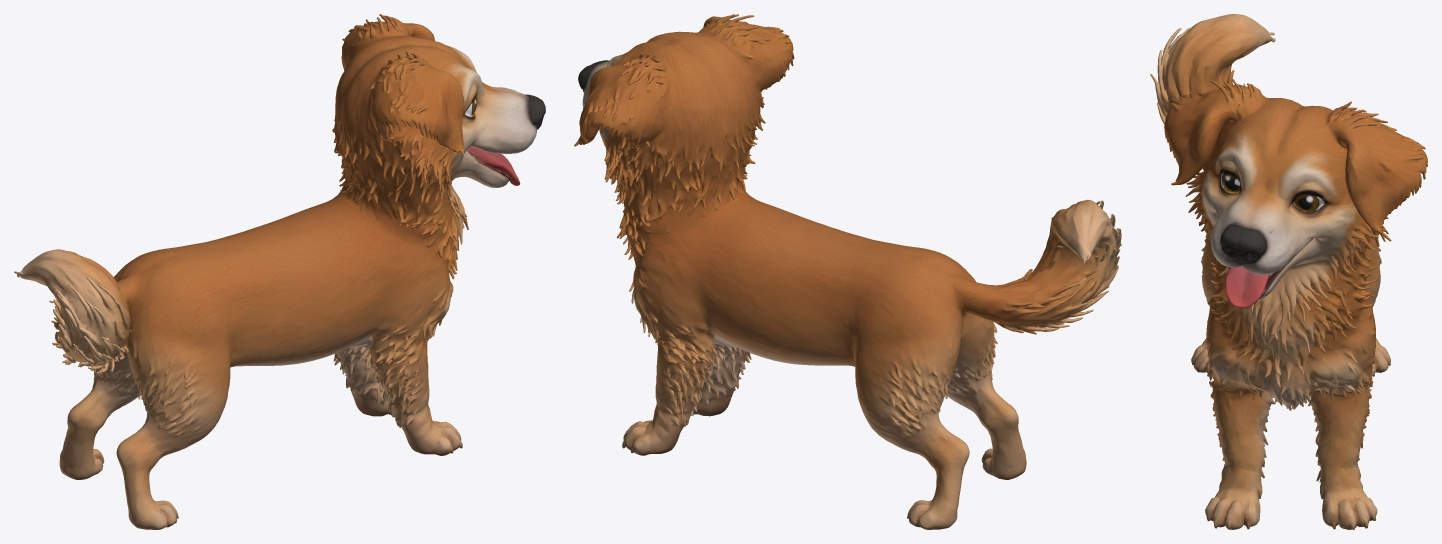
File: Chippy.glb
The picture shows the model from 3 angles, left to right: view 1: azimuth 30°, elevation 25°; view 2: azimuth 150°, elevation 25°; view 3: azimuth 270°, elevation 25°; orthographic projection. The views are drawn at different scales.
Parts seen in each view (by area): view 1: tripo_node_27fff86d-83c6-4f17-a77f-6acfd39d5c8b; view 2: tripo_node_27fff86d-83c6-4f17-a77f-6acfd39d5c8b; view 3: tripo_node_27fff86d-83c6-4f17-a77f-6acfd39d5c8b.
Part boxes in pixels (x1=…): tripo_node_27fff86d-83c6-4f17-a77f-6acfd39d5c8b: x1=14, y1=14, x2=545, y2=529; tripo_node_27fff86d-83c6-4f17-a77f-6acfd39d5c8b: x1=574, y1=14, x2=1121, y2=529; tripo_node_27fff86d-83c6-4f17-a77f-6acfd39d5c8b: x1=1150, y1=14, x2=1427, y2=529.
Size of the model in its own units: 1 by 0.7418 by 0.4362.
1 material, 1 textured.
